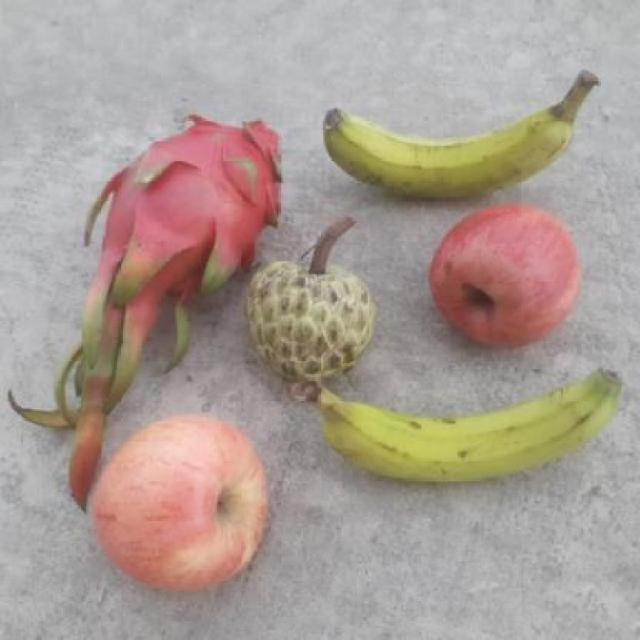apple: (88, 416, 272, 592), (429, 203, 583, 355)
banana: (290, 365, 628, 487), (315, 68, 596, 200)
dragon fruit: (81, 114, 292, 320)
sugar apple: (244, 255, 378, 390)
